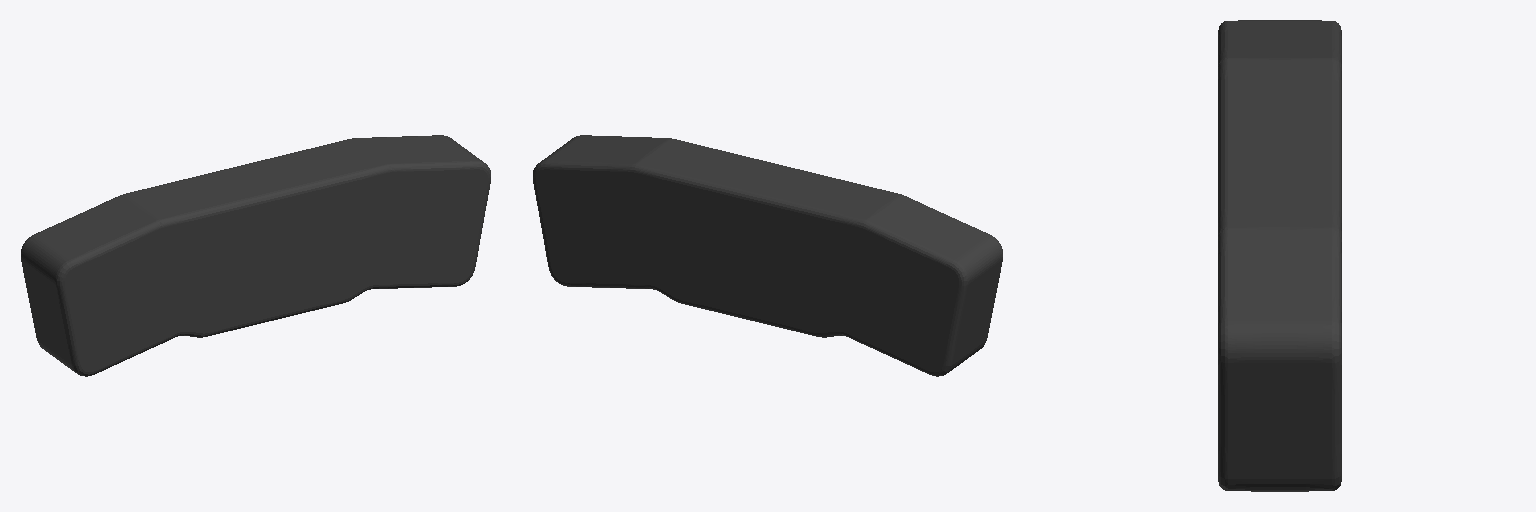
The robot description file, URDF, robot "canera3d":
<?xml version="1.0" ?>
<robot name="canera3d">
  <link name="base">
    <inertial>
      <mass value="0.1"/>
      <origin rpy="0 0 0" xyz="0.0 0.0 0.0"/>
      <inertia ixx="0.0" ixy="0.0" ixz="0.0" iyy="0.0" iyz="0.0" izz="0.0"/>
    </inertial>
    <visual>
      <origin rpy="0.0 0 0" xyz="0 0 0"/>
      <geometry>
        <mesh filename="camera3d.obj" scale="1 1 1"/>
      </geometry>
      <material name="black">
        <color rgba="0.3 0.3 0.3 1"/>
      </material>
    </visual>
    <collision>
      <origin rpy="0.0 0 0" xyz="0 0 0"/>
      <geometry>
        <mesh filename="camera3d.obj" scale="1 1 1"/>
      </geometry>
    </collision>
  </link>

</robot>

--- Facts derived from the render (not from the file) ---
3 views of the same robot in one strip: view 1: azimuth 30°, elevation 25°; view 2: azimuth 150°, elevation 25°; view 3: azimuth 270°, elevation 25° (orthographic).
Robot: canera3d — 1 links, 0 joints (none); root link base; default pose: every joint at zero.
Visible links, largest first — view 1: base; view 2: base; view 3: base.
Link boxes in pixels (bbox=[...]): base: bbox=[21, 135, 490, 376]; base: bbox=[533, 135, 1002, 376]; base: bbox=[1218, 20, 1341, 491].
Bounding box of the posed robot: 0.2608 × 0.0424 × 0.0796 m (x, y, z).
1 mesh visuals loaded from 1 distinct referenced files (1 OBJ).